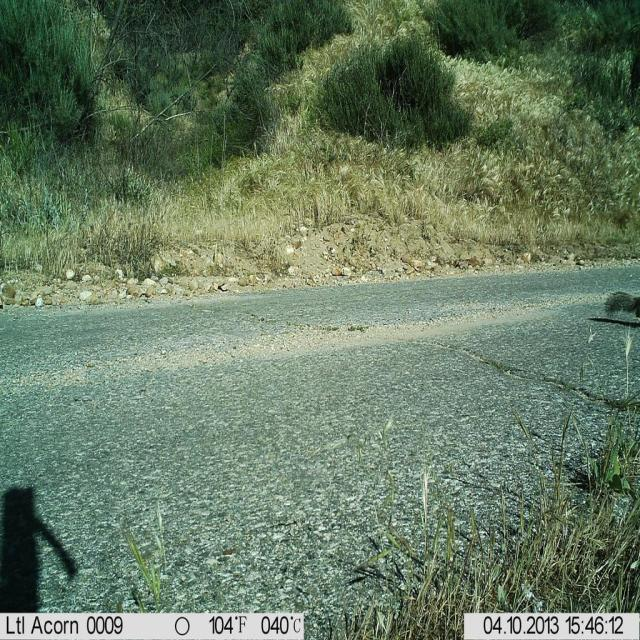squirrel: (599, 289, 640, 329)
